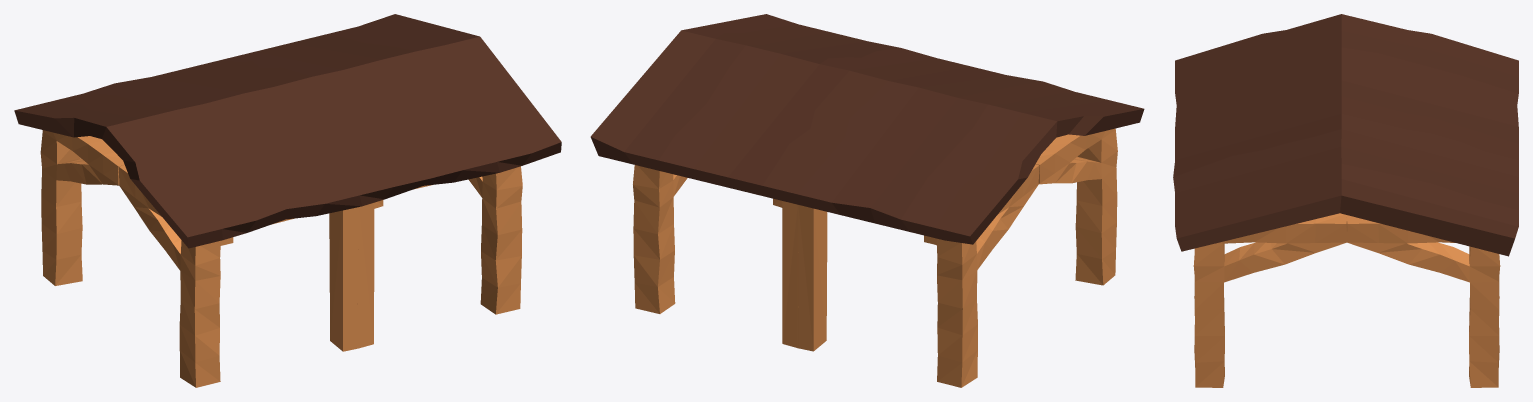
Rendered from Long Shed.fbx.
The picture shows the model from 3 angles, left to right: view 1: azimuth 30°, elevation 25°; view 2: azimuth 150°, elevation 25°; view 3: azimuth 270°, elevation 25°; orthographic projection.
Visible parts, largest first — view 1: Cube.001, Cube; view 2: Cube.001, Cube; view 3: Cube.001, Cube.
Part boxes in pixels (x1,y1,x2,y2): Cube.001: (14,14,561,248); Cube: (40,130,522,387); Cube.001: (590,14,1144,244); Cube: (633,128,1117,387); Cube.001: (1173,14,1518,256); Cube: (1193,213,1500,387).
Bounding box in the file's own units: 826 × 435 × 652.
